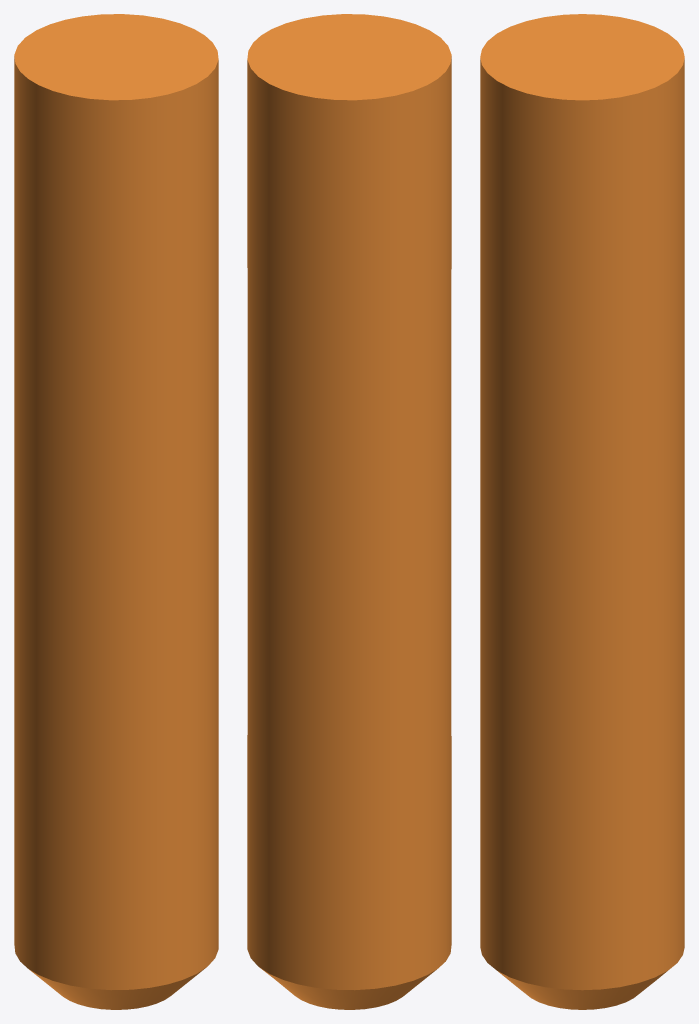
Rendered from dart.fbx.
3 renders of one model, left to right at view 1: azimuth 30°, elevation 25°; view 2: azimuth 150°, elevation 25°; view 3: azimuth 270°, elevation 25°, orthographic.
Parts seen in each view (by area): view 1: dart; view 2: dart; view 3: dart.
Part boxes in pixels (box(x1,y1,x2,y2)): dart: box(14, 14, 218, 1009); dart: box(247, 14, 451, 1009); dart: box(480, 14, 684, 1009).
Size of the model in its own units: 20 by 100 by 20.
